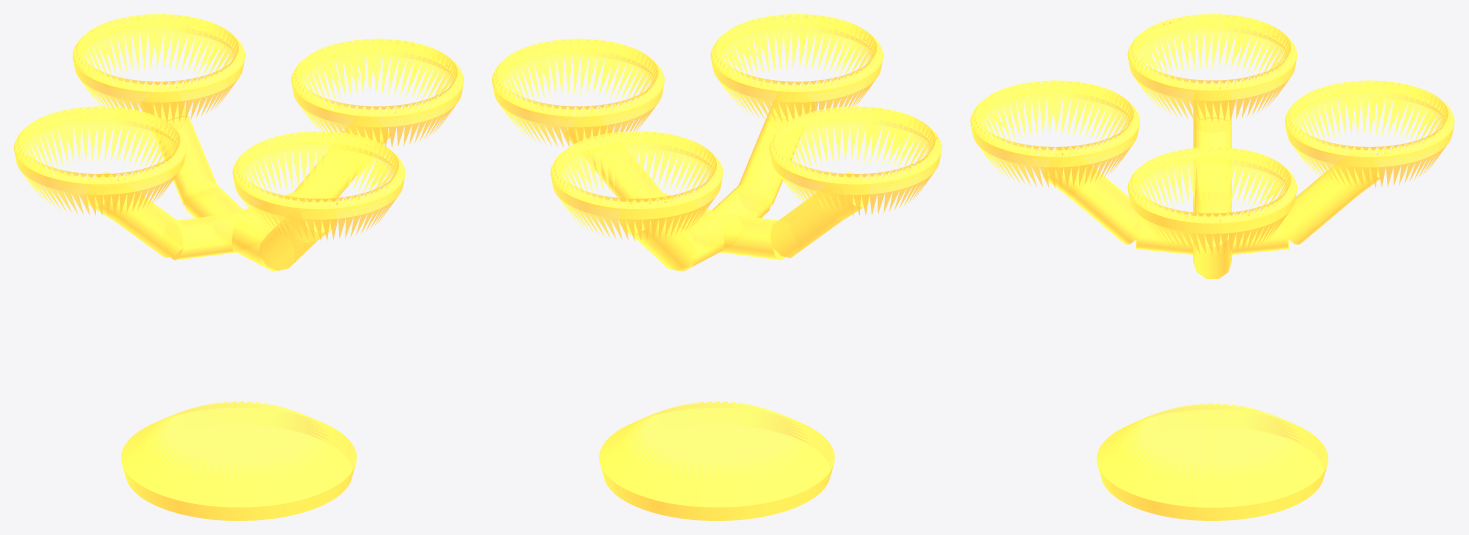
File: benson-bubbler.glb
3 renders of one model, left to right at view 1: azimuth 30°, elevation 25°; view 2: azimuth 150°, elevation 25°; view 3: azimuth 270°, elevation 25°, orthographic.
Visible parts, largest first — view 1: Benson Bubbler.001, Benson Bubbler; view 2: Benson Bubbler.001, Benson Bubbler; view 3: Benson Bubbler.001, Benson Bubbler.
Part boxes in pixels (x1,y1,x2,y2): Benson Bubbler.001: [14, 14, 463, 520]; Benson Bubbler: [14, 16, 463, 210]; Benson Bubbler.001: [492, 14, 941, 520]; Benson Bubbler: [492, 16, 941, 210]; Benson Bubbler.001: [970, 14, 1454, 520]; Benson Bubbler: [970, 16, 1454, 225].
Bounding box in the file's own units: 1.17 × 0.96 × 1.17.
